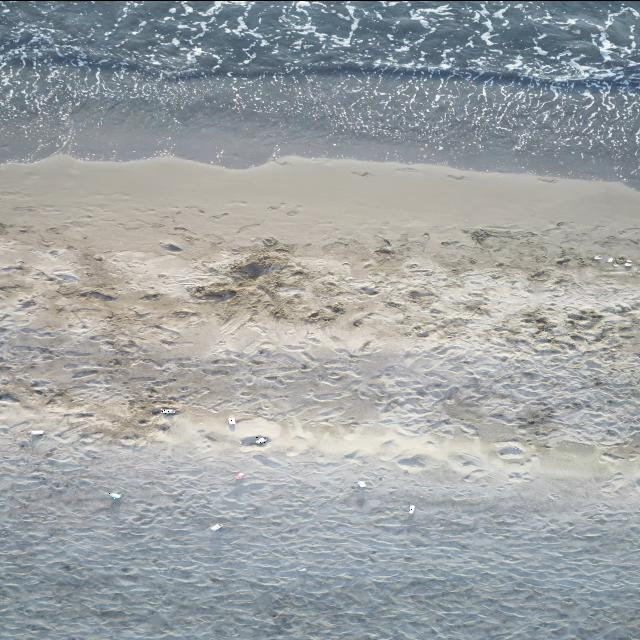Garbage: (240, 435, 267, 444), (161, 243, 180, 251), (555, 256, 568, 264), (256, 435, 267, 444), (613, 256, 627, 263), (108, 492, 120, 500), (160, 407, 176, 413), (209, 523, 220, 531), (233, 472, 243, 480), (228, 415, 235, 426), (156, 423, 167, 430), (547, 492, 556, 500), (32, 430, 44, 435), (624, 260, 632, 267), (356, 480, 364, 487), (612, 260, 619, 267), (408, 504, 413, 513), (592, 255, 600, 260), (607, 256, 612, 263), (298, 567, 306, 571)
